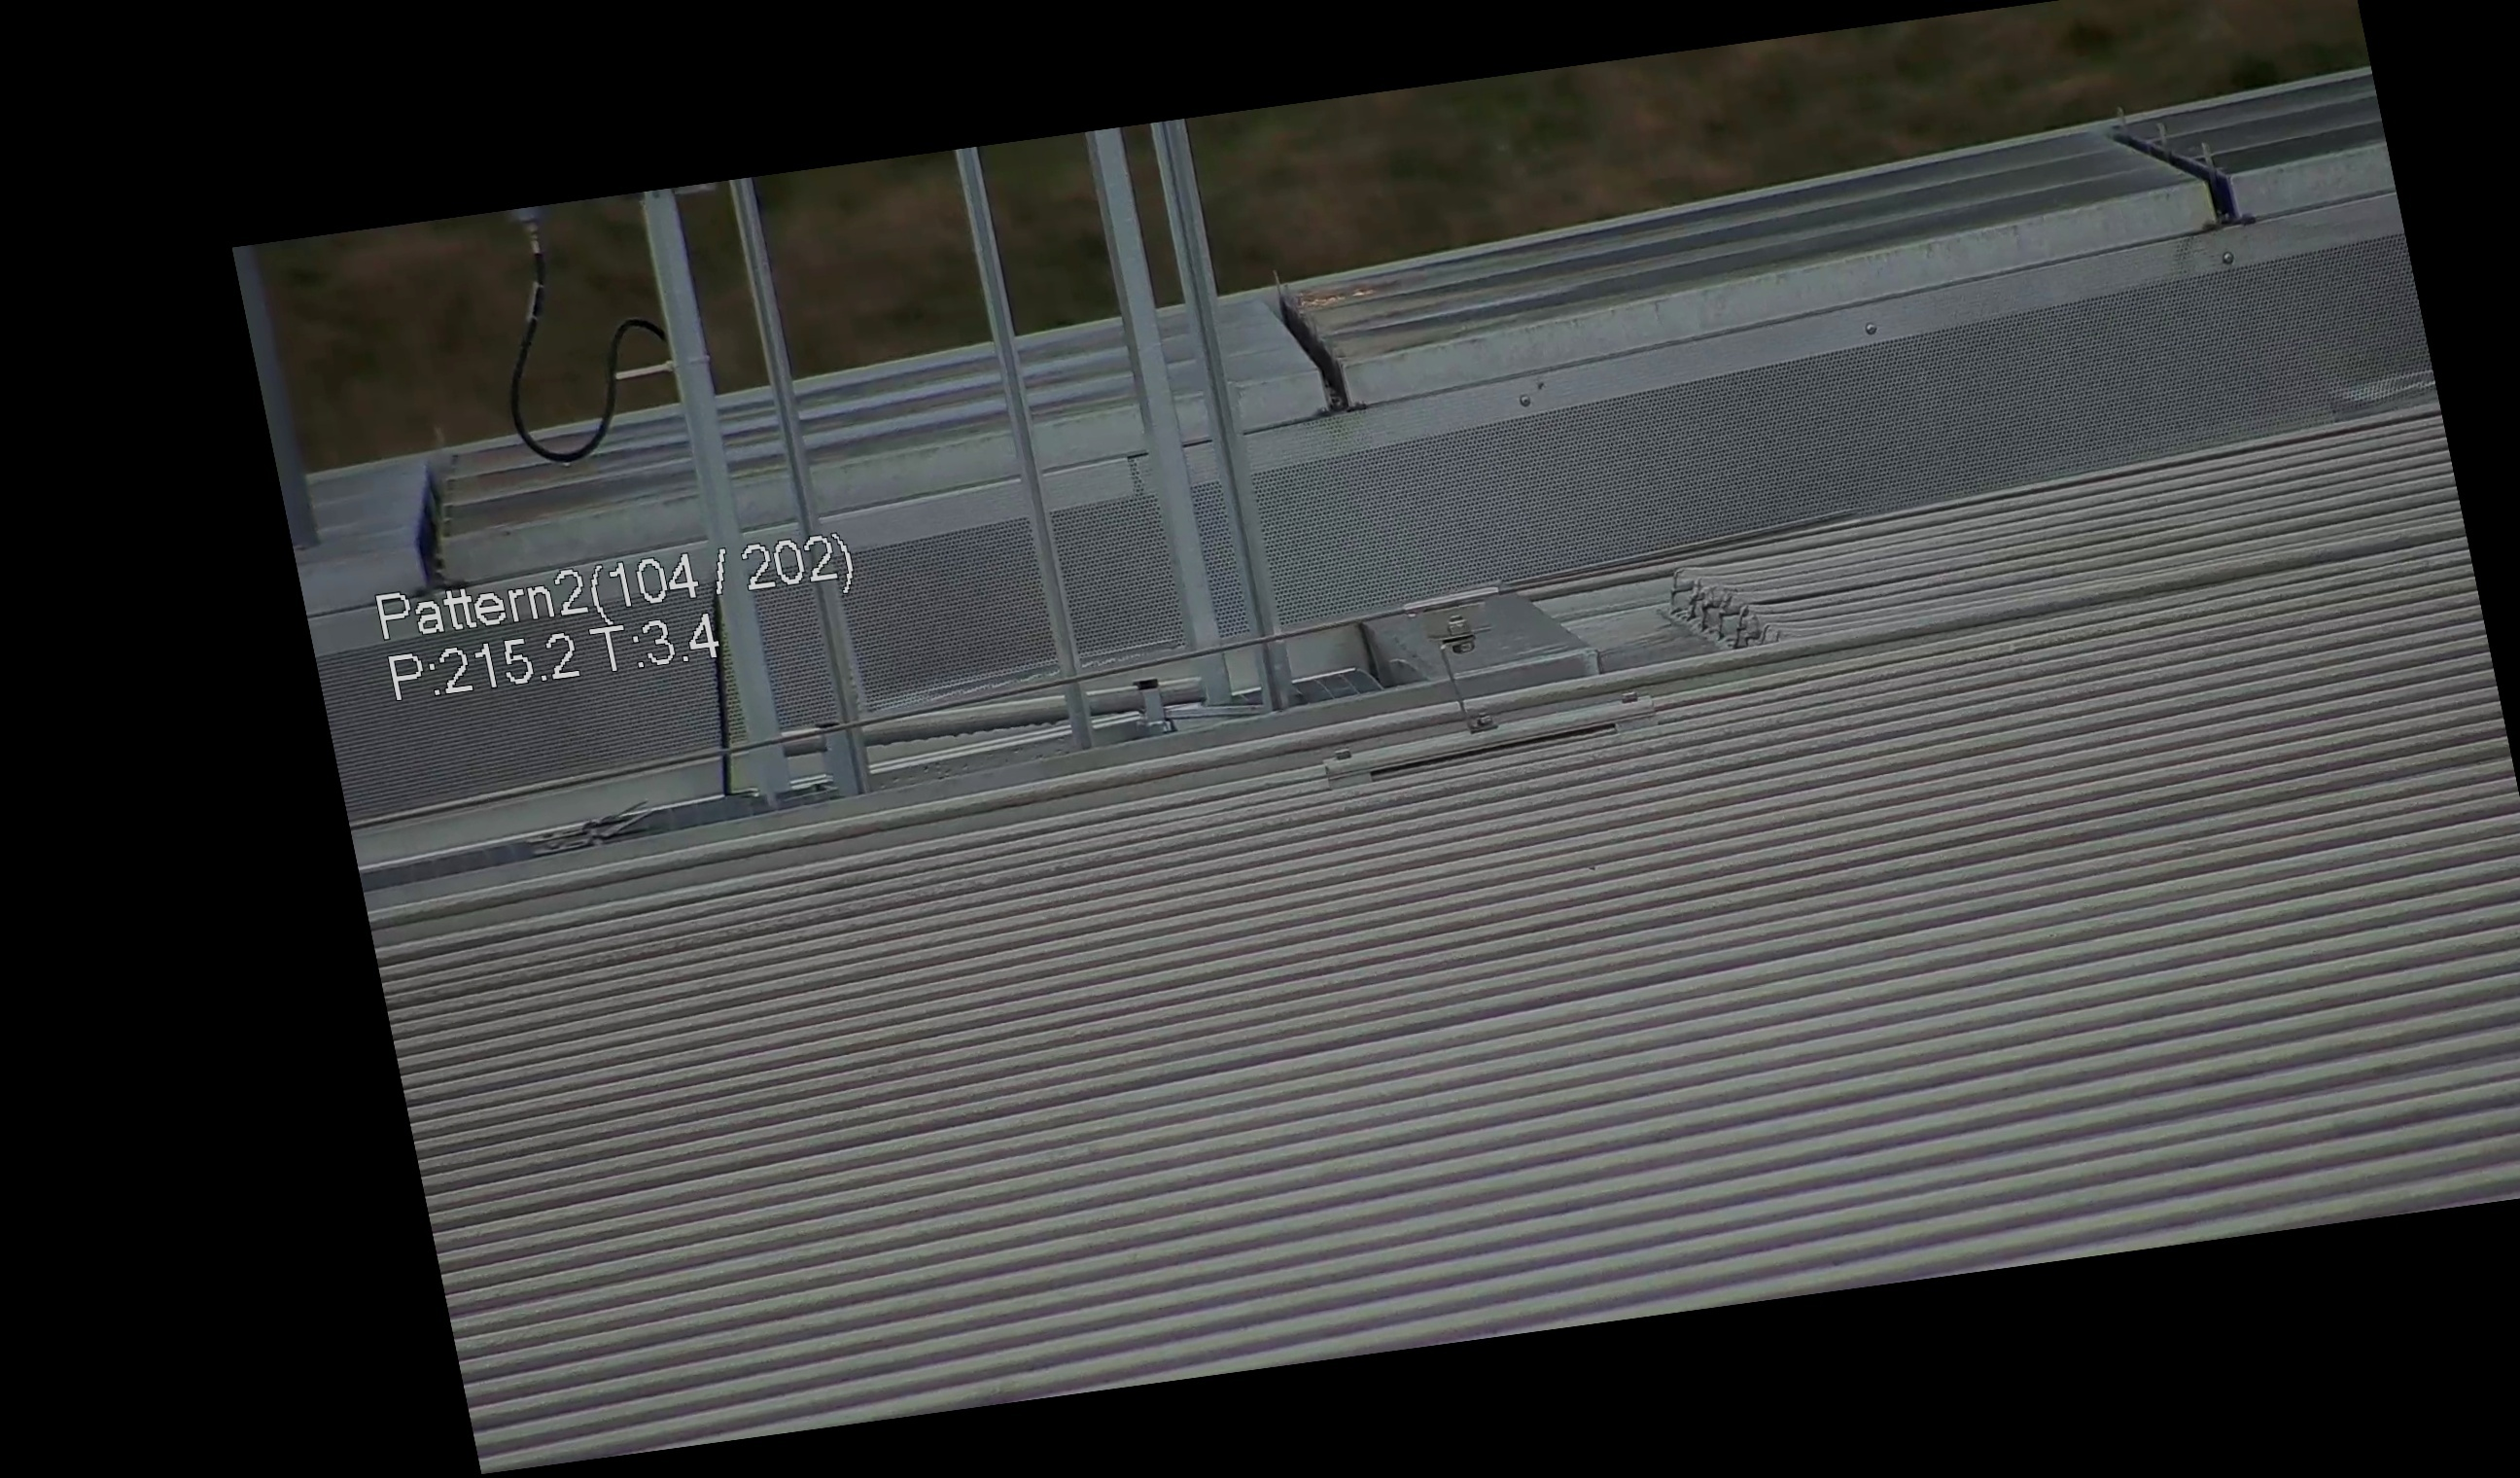Other: (1254, 269, 1373, 421)
